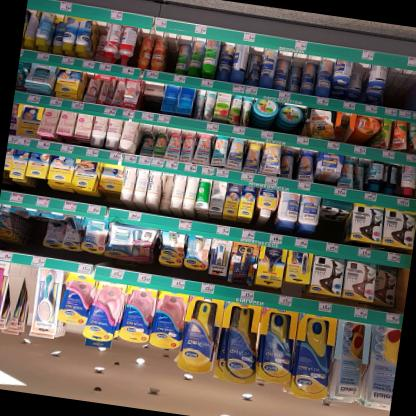empty_space: (382, 53, 416, 111)
